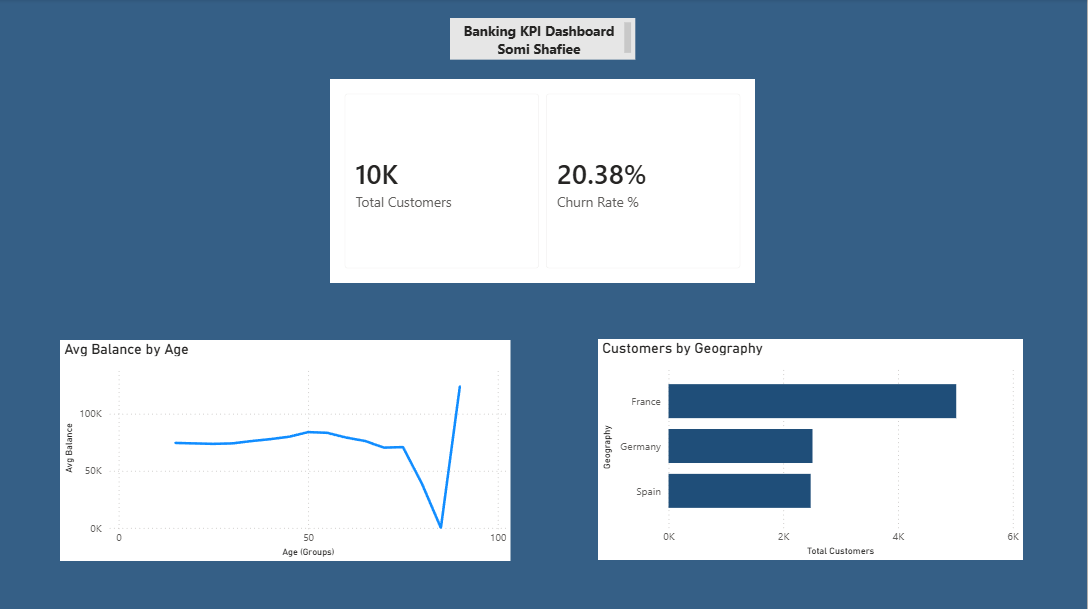

The dashboard page shown, as its layout file describes it:
{"tool":"powerbi","page":{"name":"Customer Overview","canvas":[1280,720],"ordinal":0},"visuals":[{"type":"cardVisual","fields":{"Data":["Customer-Churn-Records (2).Total Customers","Customer-Churn-Records (2).Churn Rate %"]},"box":[389.4,94.1,500,240],"z":0},{"type":"clusteredBarChart","title":"Customers by Geography","fields":{"Category":["Customer-Churn-Records (2).Geography"],"Y":["Customer-Churn-Records (2).Total Customers"]},"box":[704.7,400,500,260],"z":1000},{"type":"lineChart","title":"Avg Balance by Age","fields":{"Y":["Customer-Churn-Records (2).Avg Balance"],"Category":["Customer-Churn-Records (2).Age (bins)"]},"box":[71.8,401.2,530,260],"z":2000},{"type":"textbox","box":[530.6,22.4,217.6,49.4],"z":3000}]}

Visuals, with their boxes in screenshot pixels (x1, y1, x2, y2), scaled from the page's 1280x720 canvas onto the 1088x609 screenshot:
cardVisual - Customer-Churn-Records (2).Total Customers x Customer-Churn-Records (2).Churn Rate %: x1=331, y1=80, x2=756, y2=283
"Customers by Geography" clusteredBarChart: x1=599, y1=338, x2=1024, y2=558
"Avg Balance by Age" lineChart: x1=61, y1=339, x2=512, y2=559
textbox: x1=451, y1=19, x2=636, y2=61
